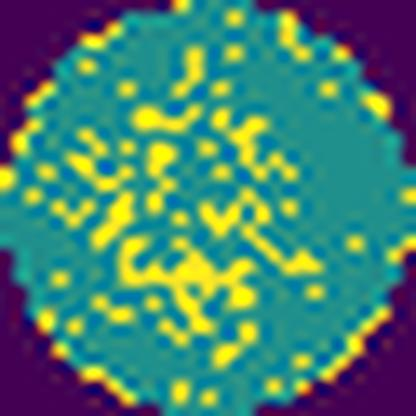Donut: (45, 79, 304, 375)
